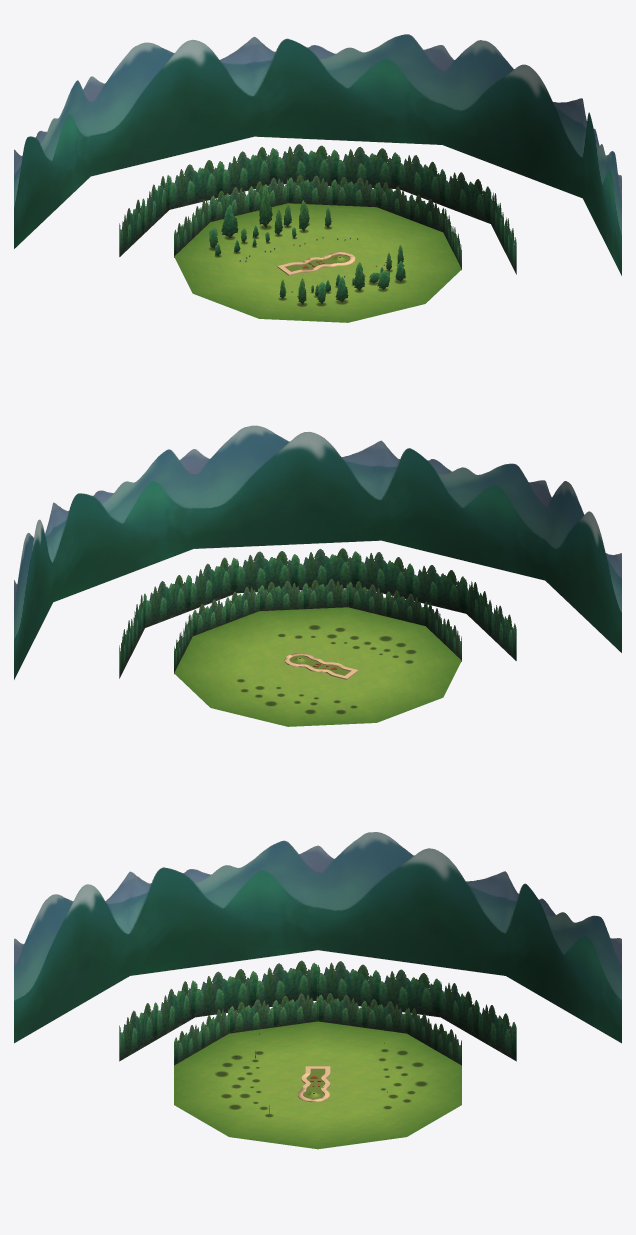
Rendered from hole11.glb.
The picture shows the model from 3 angles, top to bottom: view 1: azimuth 30°, elevation 25°; view 2: azimuth 150°, elevation 25°; view 3: azimuth 270°, elevation 25°; orthographic projection. The views are drawn at different scales.
Visible parts, largest first — view 1: background1, grass_base, background3, background2, edges1; view 2: background1, grass_base, background3, background2, edges1; view 3: background1, grass_base, background3, background2, edges1.
Boxes of the visible parts, bbox=[...] form: background1: bbox=[14, 34, 621, 275]; grass_base: bbox=[174, 203, 461, 322]; background3: bbox=[119, 144, 516, 274]; background2: bbox=[174, 175, 461, 270]; edges1: bbox=[277, 252, 355, 275]; background1: bbox=[14, 425, 621, 679]; grass_base: bbox=[174, 607, 461, 726]; background3: bbox=[119, 548, 516, 678]; background2: bbox=[174, 579, 461, 674]; edges1: bbox=[284, 653, 358, 679]; background1: bbox=[14, 832, 621, 1043]; grass_base: bbox=[174, 1021, 461, 1149]; background3: bbox=[119, 960, 516, 1061]; background2: bbox=[174, 993, 461, 1065]; edges1: bbox=[298, 1066, 330, 1102].
Size of what is drawn, in the model's own units: 347 by 79.56 by 330.
10 materials, 9 textured.
